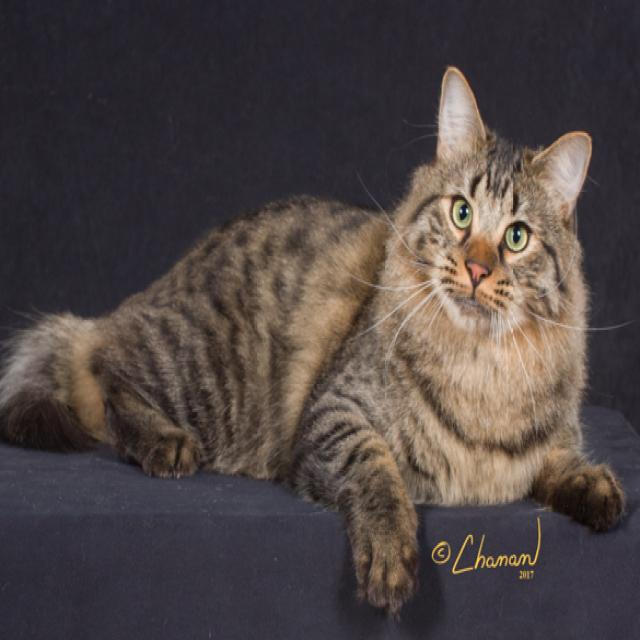American Bobtail: (0, 61, 628, 624)
